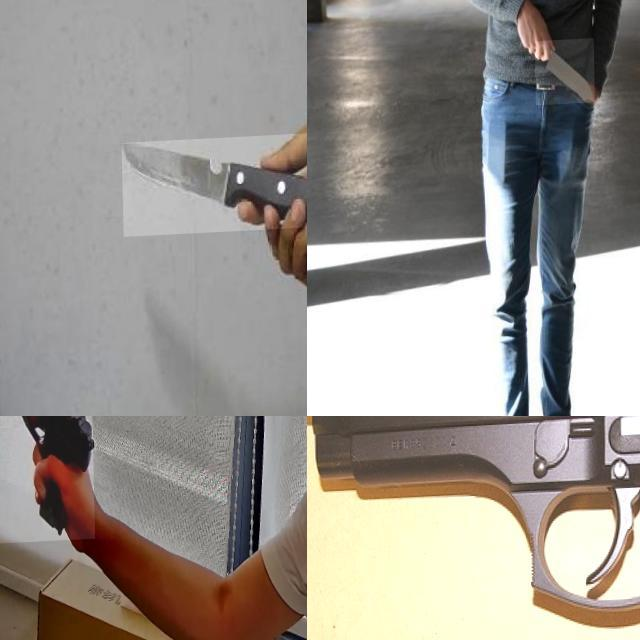-: (120, 136, 307, 239), (534, 42, 594, 108)
gun-knife-thesis - v11 Yolov5 augmented: (307, 416, 640, 640), (0, 416, 93, 544)
